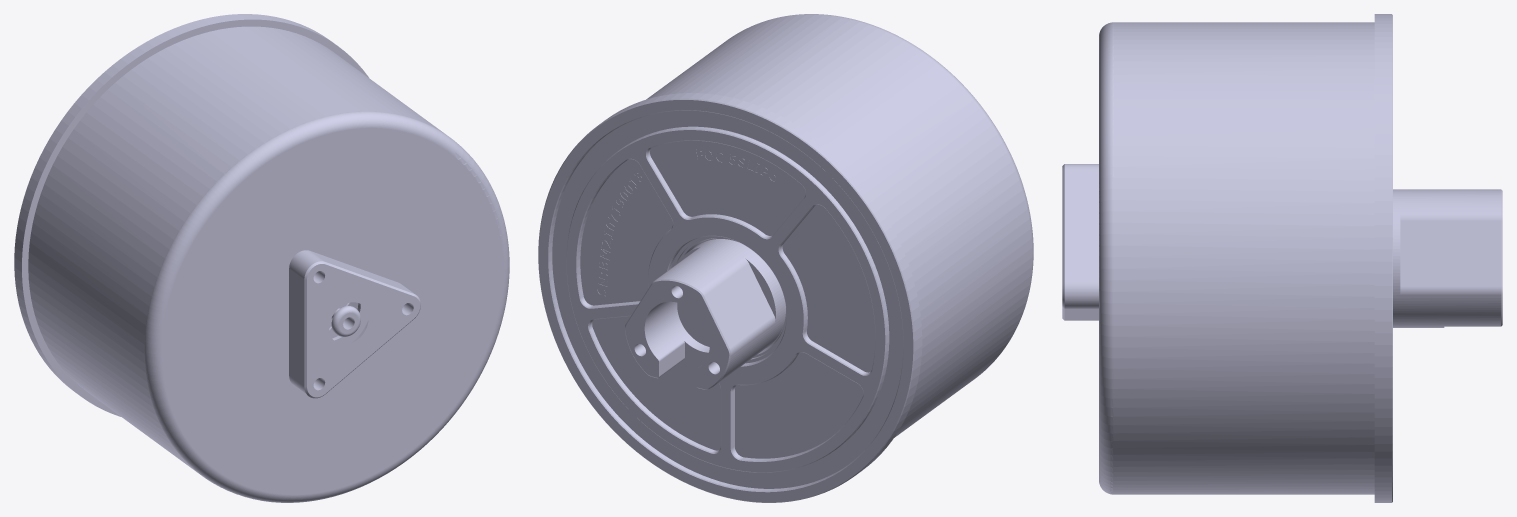
File: ugv_ddsm_m0601c003_pd8e9f.dae
3 renders of one model, left to right at view 1: azimuth 30°, elevation 25°; view 2: azimuth 150°, elevation 25°; view 3: azimuth 270°, elevation 25°, orthographic. The views are drawn at different scales.
Visible parts, largest first — view 1: node0; view 2: node0; view 3: node0.
Boxes of the visible parts, box(x1,y1,x2,y2) form: node0: box(14, 14, 509, 502); node0: box(538, 14, 1033, 502); node0: box(1062, 14, 1502, 502).
Bounding box in the file's own units: 0.067 × 0.0603 × 0.067.
